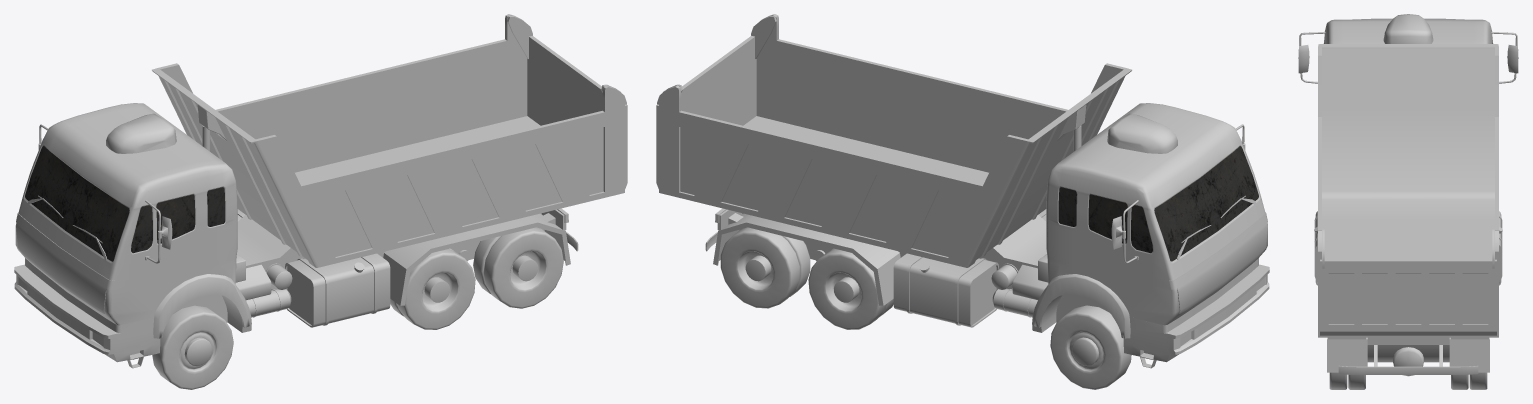
The model's file is Truck01_Dump.FBX.
3 renders of one model, left to right at view 1: azimuth 30°, elevation 25°; view 2: azimuth 150°, elevation 25°; view 3: azimuth 270°, elevation 25°, orthographic. The views are drawn at different scales.
Visible parts, largest first — view 1: Truck01_Body, Truck01_Dump, Truck01_Glass, Truck01_DumpBack; view 2: Truck01_Body, Truck01_Dump, Truck01_Glass, Truck01_DumpBack; view 3: Truck01_Dump, Truck01_DumpBack, Truck01_Body.
Boxes of the visible parts, left/top/right/bottom form: Truck01_Body: left=14, top=103, right=578, bottom=389; Truck01_Dump: left=152, top=14, right=624, bottom=267; Truck01_Glass: left=25, top=146, right=225, bottom=261; Truck01_DumpBack: left=507, top=16, right=627, bottom=188; Truck01_Body: left=705, top=103, right=1269, bottom=389; Truck01_Dump: left=659, top=14, right=1131, bottom=267; Truck01_Glass: left=1058, top=146, right=1258, bottom=261; Truck01_DumpBack: left=656, top=16, right=776, bottom=188; Truck01_Dump: left=1318, top=44, right=1498, bottom=337; Truck01_DumpBack: left=1320, top=229, right=1496, bottom=335; Truck01_Body: left=1298, top=14, right=1518, bottom=389.
Bounding box in the file's own units: 939 × 409 × 376.
